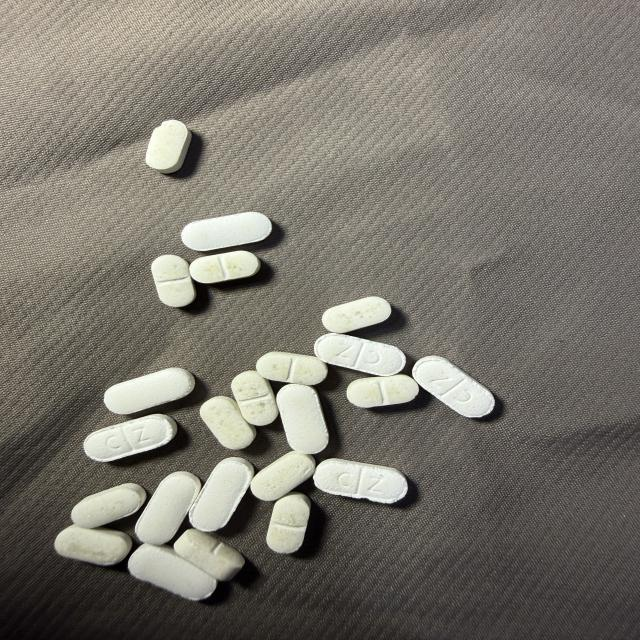pill: (413, 356, 494, 417), (129, 544, 217, 600), (189, 458, 253, 531), (136, 472, 200, 544), (84, 414, 177, 461), (104, 368, 194, 414), (314, 459, 407, 503), (315, 334, 405, 376), (174, 529, 245, 580), (277, 384, 328, 454), (182, 212, 271, 251), (71, 484, 146, 528), (251, 451, 315, 500), (55, 525, 132, 565), (200, 397, 256, 449), (267, 493, 310, 553), (231, 371, 278, 425), (322, 297, 391, 333), (146, 120, 191, 173), (347, 374, 419, 407), (256, 352, 327, 385), (189, 251, 260, 283), (152, 255, 195, 307)
